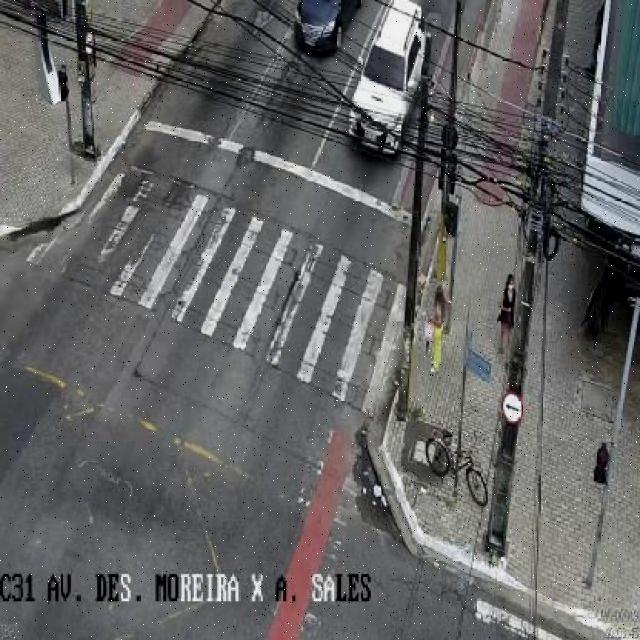Car: (350, 0, 430, 158), (293, 0, 358, 54)
Cycle: (420, 426, 490, 506)
